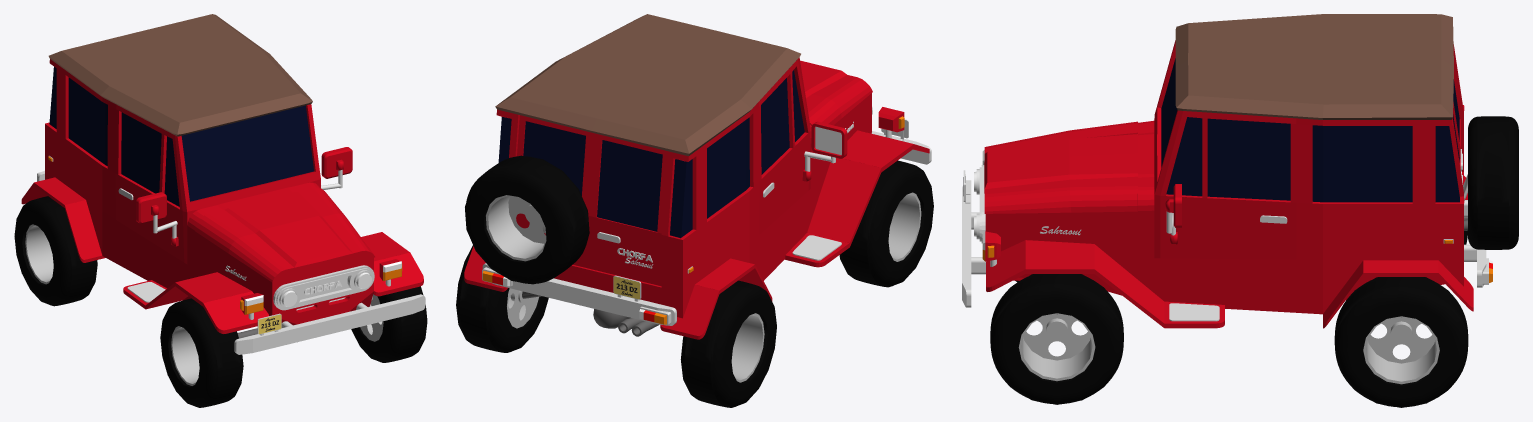
3 views of the same model, side by side, from view 1: azimuth 30°, elevation 25°; view 2: azimuth 150°, elevation 25°; view 3: azimuth 270°, elevation 25° (orthographic). The views are drawn at different scales.
Parts seen in each view (by area): view 1: Carrosserie, Toit, Vitres, Capot, Roues.Front, Aile.Front, Roues.Rear, PareChoc.Avant, Ailes.Rear, Jante, Retro, Calandre (+6 smaller); view 2: Carrosserie, Toit, Vitres, Roues.Rear, Roues.Secours, Aile.Front, Roues.Front, Ailes.Rear, Capot, Jante.002, PareChoc.Arriere, Jante.001 (+10 smaller); view 3: Carrosserie, Toit, Vitres, Capot, Roues.Rear, Roues.Front, Roues.Secours, Aile.Front, Jante, Jante.001, Ailes.Rear, PareChoc.Avant (+1 smaller).
Part boxes in pixels (x1,y1,x2,y2): Carrosserie: [45, 59, 373, 325]; Toit: [48, 14, 312, 136]; Vitres: [49, 67, 313, 206]; Capot: [195, 187, 374, 282]; Roues.Front: [160, 286, 427, 407]; Aile.Front: [123, 232, 423, 333]; Roues.Rear: [14, 196, 97, 306]; PareChoc.Avant: [234, 294, 425, 354]; Ailes.Rear: [21, 177, 105, 262]; Jante: [171, 294, 383, 385]; Retro: [136, 147, 352, 224]; Calandre: [273, 265, 374, 310]; Carrosserie: [496, 57, 871, 318]; Toit: [495, 14, 800, 156]; Vitres: [498, 70, 804, 238]; Roues.Rear: [456, 245, 776, 407]; Roues.Secours: [465, 155, 589, 284]; Aile.Front: [785, 130, 929, 267]; Roues.Front: [839, 160, 933, 287]; Ailes.Rear: [464, 246, 772, 339]; Capot: [800, 60, 872, 125]; Jante.002: [486, 195, 546, 261]; PareChoc.Arriere: [482, 263, 676, 325]; Jante.001: [507, 288, 764, 382]; Carrosserie: [985, 40, 1464, 314]; Toit: [1175, 14, 1453, 119]; Vitres: [1161, 58, 1459, 202]; Capot: [984, 121, 1137, 213]; Roues.Rear: [1334, 230, 1468, 407]; Roues.Front: [990, 274, 1123, 404]; Roues.Secours: [1468, 116, 1518, 249]; Aile.Front: [986, 240, 1224, 328]; Jante: [1018, 313, 1095, 381]; Jante.001: [1363, 316, 1439, 384]; Ailes.Rear: [1323, 176, 1473, 328]; PareChoc.Avant: [962, 180, 971, 307].
Size of the model in its own units: 2.31 by 2.22 by 3.95.
